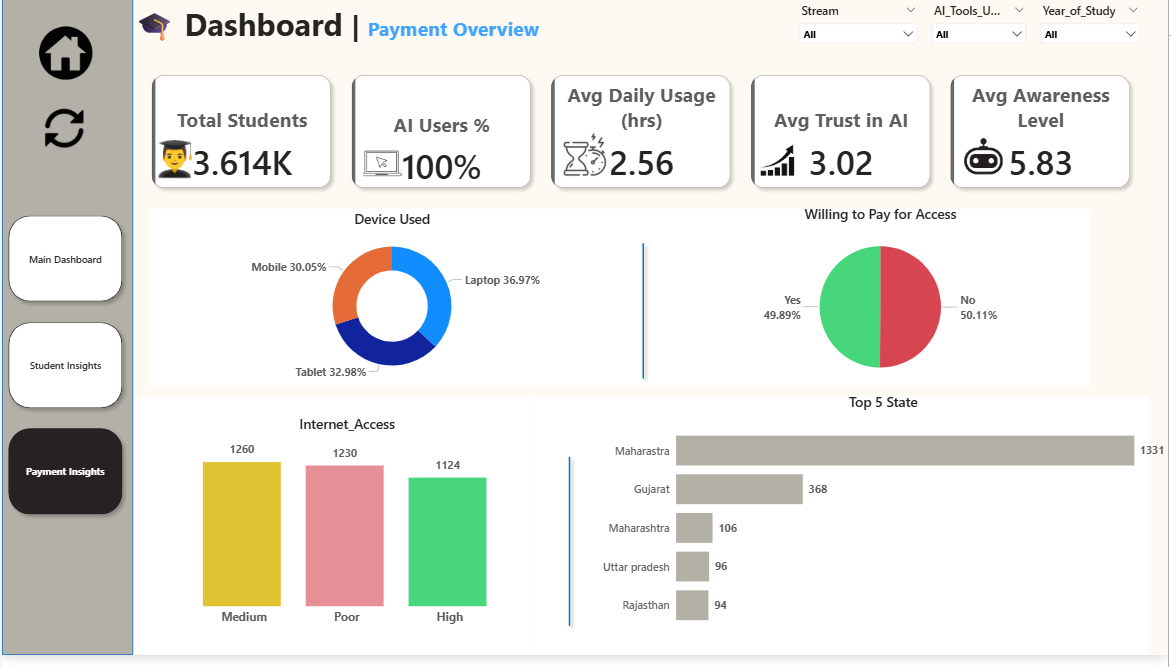

This screenshot's page, from the dashboard's own definition file:
{"tool":"powerbi","page":{"name":"Payment Insights","canvas":[1600,900],"ordinal":2},"visuals":[{"type":"textbox","box":[175,0,909.1,75.5],"z":0},{"type":"cardVisual","fields":{"Data":["Students.Total Students","Students.AI Users %","Students.Avg Daily Usage (hrs)","Students.Avg Trust in AI","Students.Avg Awareness Level"]},"box":[188.7,87.5,1384.2,193.8],"z":1000},{"type":"shape","box":[202,288,1292,242],"z":2000},{"type":"shape","box":[180,546,552,354],"z":3000},{"type":"shape","box":[868,326,24,204],"z":4000},{"type":"image","box":[202,188,78,68],"z":5000},{"type":"image","box":[490.6,176.7,65.2,97.8],"z":6000},{"type":"image","box":[1022.3,192.1,87.5,60],"z":7000},{"type":"image","box":[1313.9,163,70.3,108.1],"z":8000},{"type":"shape","box":[732,546,840,354],"z":9000},{"type":"image","box":[742.7,169.8,114.9,92.6],"z":10000},{"type":"shape","box":[0,0,180,900],"z":11000},{"type":"shape","box":[766,620,24,250],"z":12000},{"type":"image","box":[36,22.3,104.6,102.9],"z":13000},{"type":"slicer","fields":{"Values":["Students.Stream"]},"box":[1084.1,0,181.8,87.5],"z":14000},{"type":"slicer","fields":{"Values":["Students.Year_of_Study"]},"box":[1415.1,0,156.1,87.5],"z":15000},{"type":"slicer","fields":{"Values":["Students.AI_Tools_Used"]},"box":[1265.9,0,149.2,73.8],"z":16000},{"type":"donutChart","title":"Device Used","fields":{"Category":["Students.Device_Used"],"Y":["Students.Total Students"]},"box":[202,288,666,242],"z":17000},{"type":"lineStackedColumnComboChart","title":" Internet_Access","fields":{"Category":["Students.Internet_Access"],"Y":["CountNonNull(Students.Student Name)"]},"box":[214,570,518,300],"z":18000},{"type":"pieChart","title":" Willing to Pay for Access","fields":{"Category":["Students.Willing_to_Pay_for_Access"],"Y":["CountNonNull(Students.Student Name)"]},"box":[1028,282,356,258],"z":19000},{"type":"barChart","title":"Top 5  State","fields":{"Category":["Students.State"],"Y":["Students.Total Students"]},"box":[818,540,782,340],"z":20000},{"type":"image","box":[36,130,102,92],"z":21000},{"type":"pageNavigator","box":[0,288,174,430],"z":22000}]}

Visuals, with their boxes in screenshot pixels (x1, y1, x2, y2), scaled from the page's 1600x900 canvas onto the 1171x667 screenshot:
textbox: region(128, 0, 793, 56)
cardVisual - Students.Total Students x Students.AI Users %: region(138, 65, 1151, 208)
shape: region(148, 213, 1093, 393)
shape: region(132, 405, 536, 666)
shape: region(635, 242, 653, 393)
image: region(148, 139, 205, 190)
image: region(359, 131, 407, 203)
image: region(748, 142, 812, 187)
image: region(962, 121, 1013, 201)
shape: region(536, 405, 1151, 666)
image: region(544, 126, 628, 194)
shape: region(0, 0, 132, 666)
shape: region(561, 459, 578, 645)
image: region(26, 17, 103, 93)
slicer - Students.Stream: region(793, 0, 926, 65)
slicer - Students.Year_of_Study: region(1036, 0, 1150, 65)
slicer - Students.AI_Tools_Used: region(926, 0, 1036, 55)
"Device Used" donutChart: region(148, 213, 635, 393)
" Internet_Access" lineStackedColumnComboChart: region(157, 422, 536, 645)
" Willing to Pay for Access" pieChart: region(752, 209, 1013, 400)
"Top 5  State" barChart: region(599, 400, 1170, 652)
image: region(26, 96, 101, 165)
pageNavigator: region(0, 213, 127, 532)
